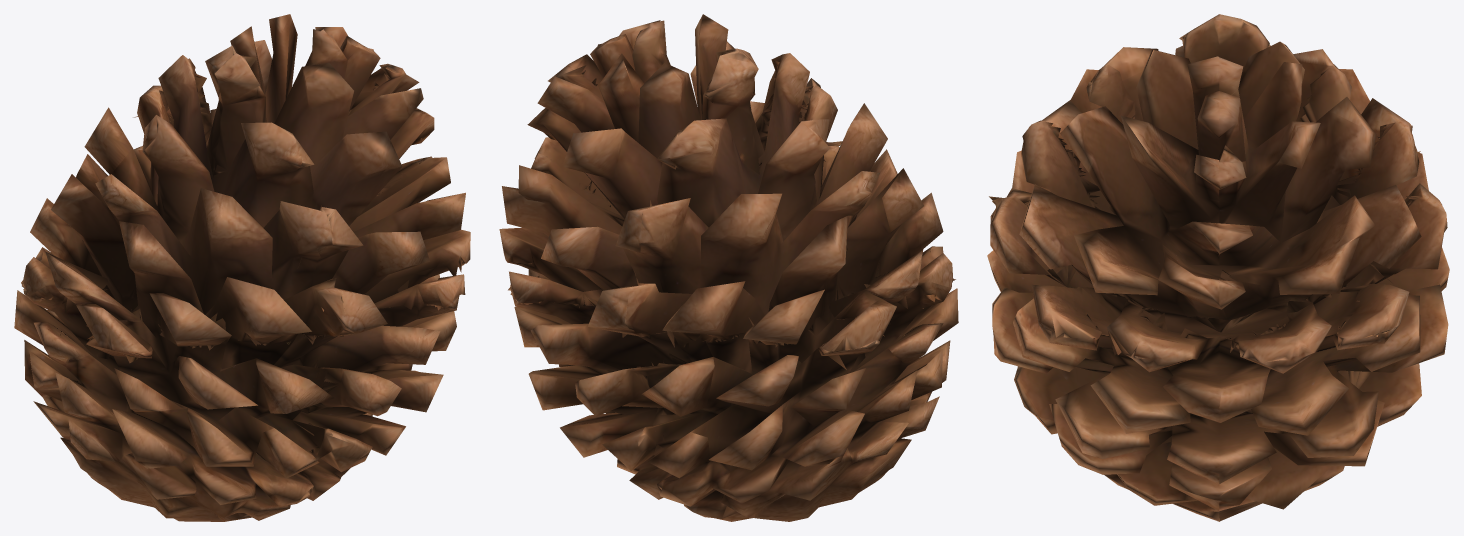
File: source_2.glb
The picture shows the model from 3 angles, left to right: view 1: azimuth 30°, elevation 25°; view 2: azimuth 150°, elevation 25°; view 3: azimuth 270°, elevation 25°; orthographic projection. The views are drawn at different scales.
Visible parts, largest first — view 1: tripo_node_99ecb439-08be-4f2d-bcad-a03ff8042582; view 2: tripo_node_99ecb439-08be-4f2d-bcad-a03ff8042582; view 3: tripo_node_99ecb439-08be-4f2d-bcad-a03ff8042582.
Boxes of the visible parts, x1,y1,x2,y2 form: tripo_node_99ecb439-08be-4f2d-bcad-a03ff8042582: [14, 14, 470, 521]; tripo_node_99ecb439-08be-4f2d-bcad-a03ff8042582: [499, 14, 958, 521]; tripo_node_99ecb439-08be-4f2d-bcad-a03ff8042582: [987, 14, 1449, 521].
Bounding box in the file's own units: 0.9008 × 0.9909 × 0.8429.
Materials: 1 (1 with a texture image).
